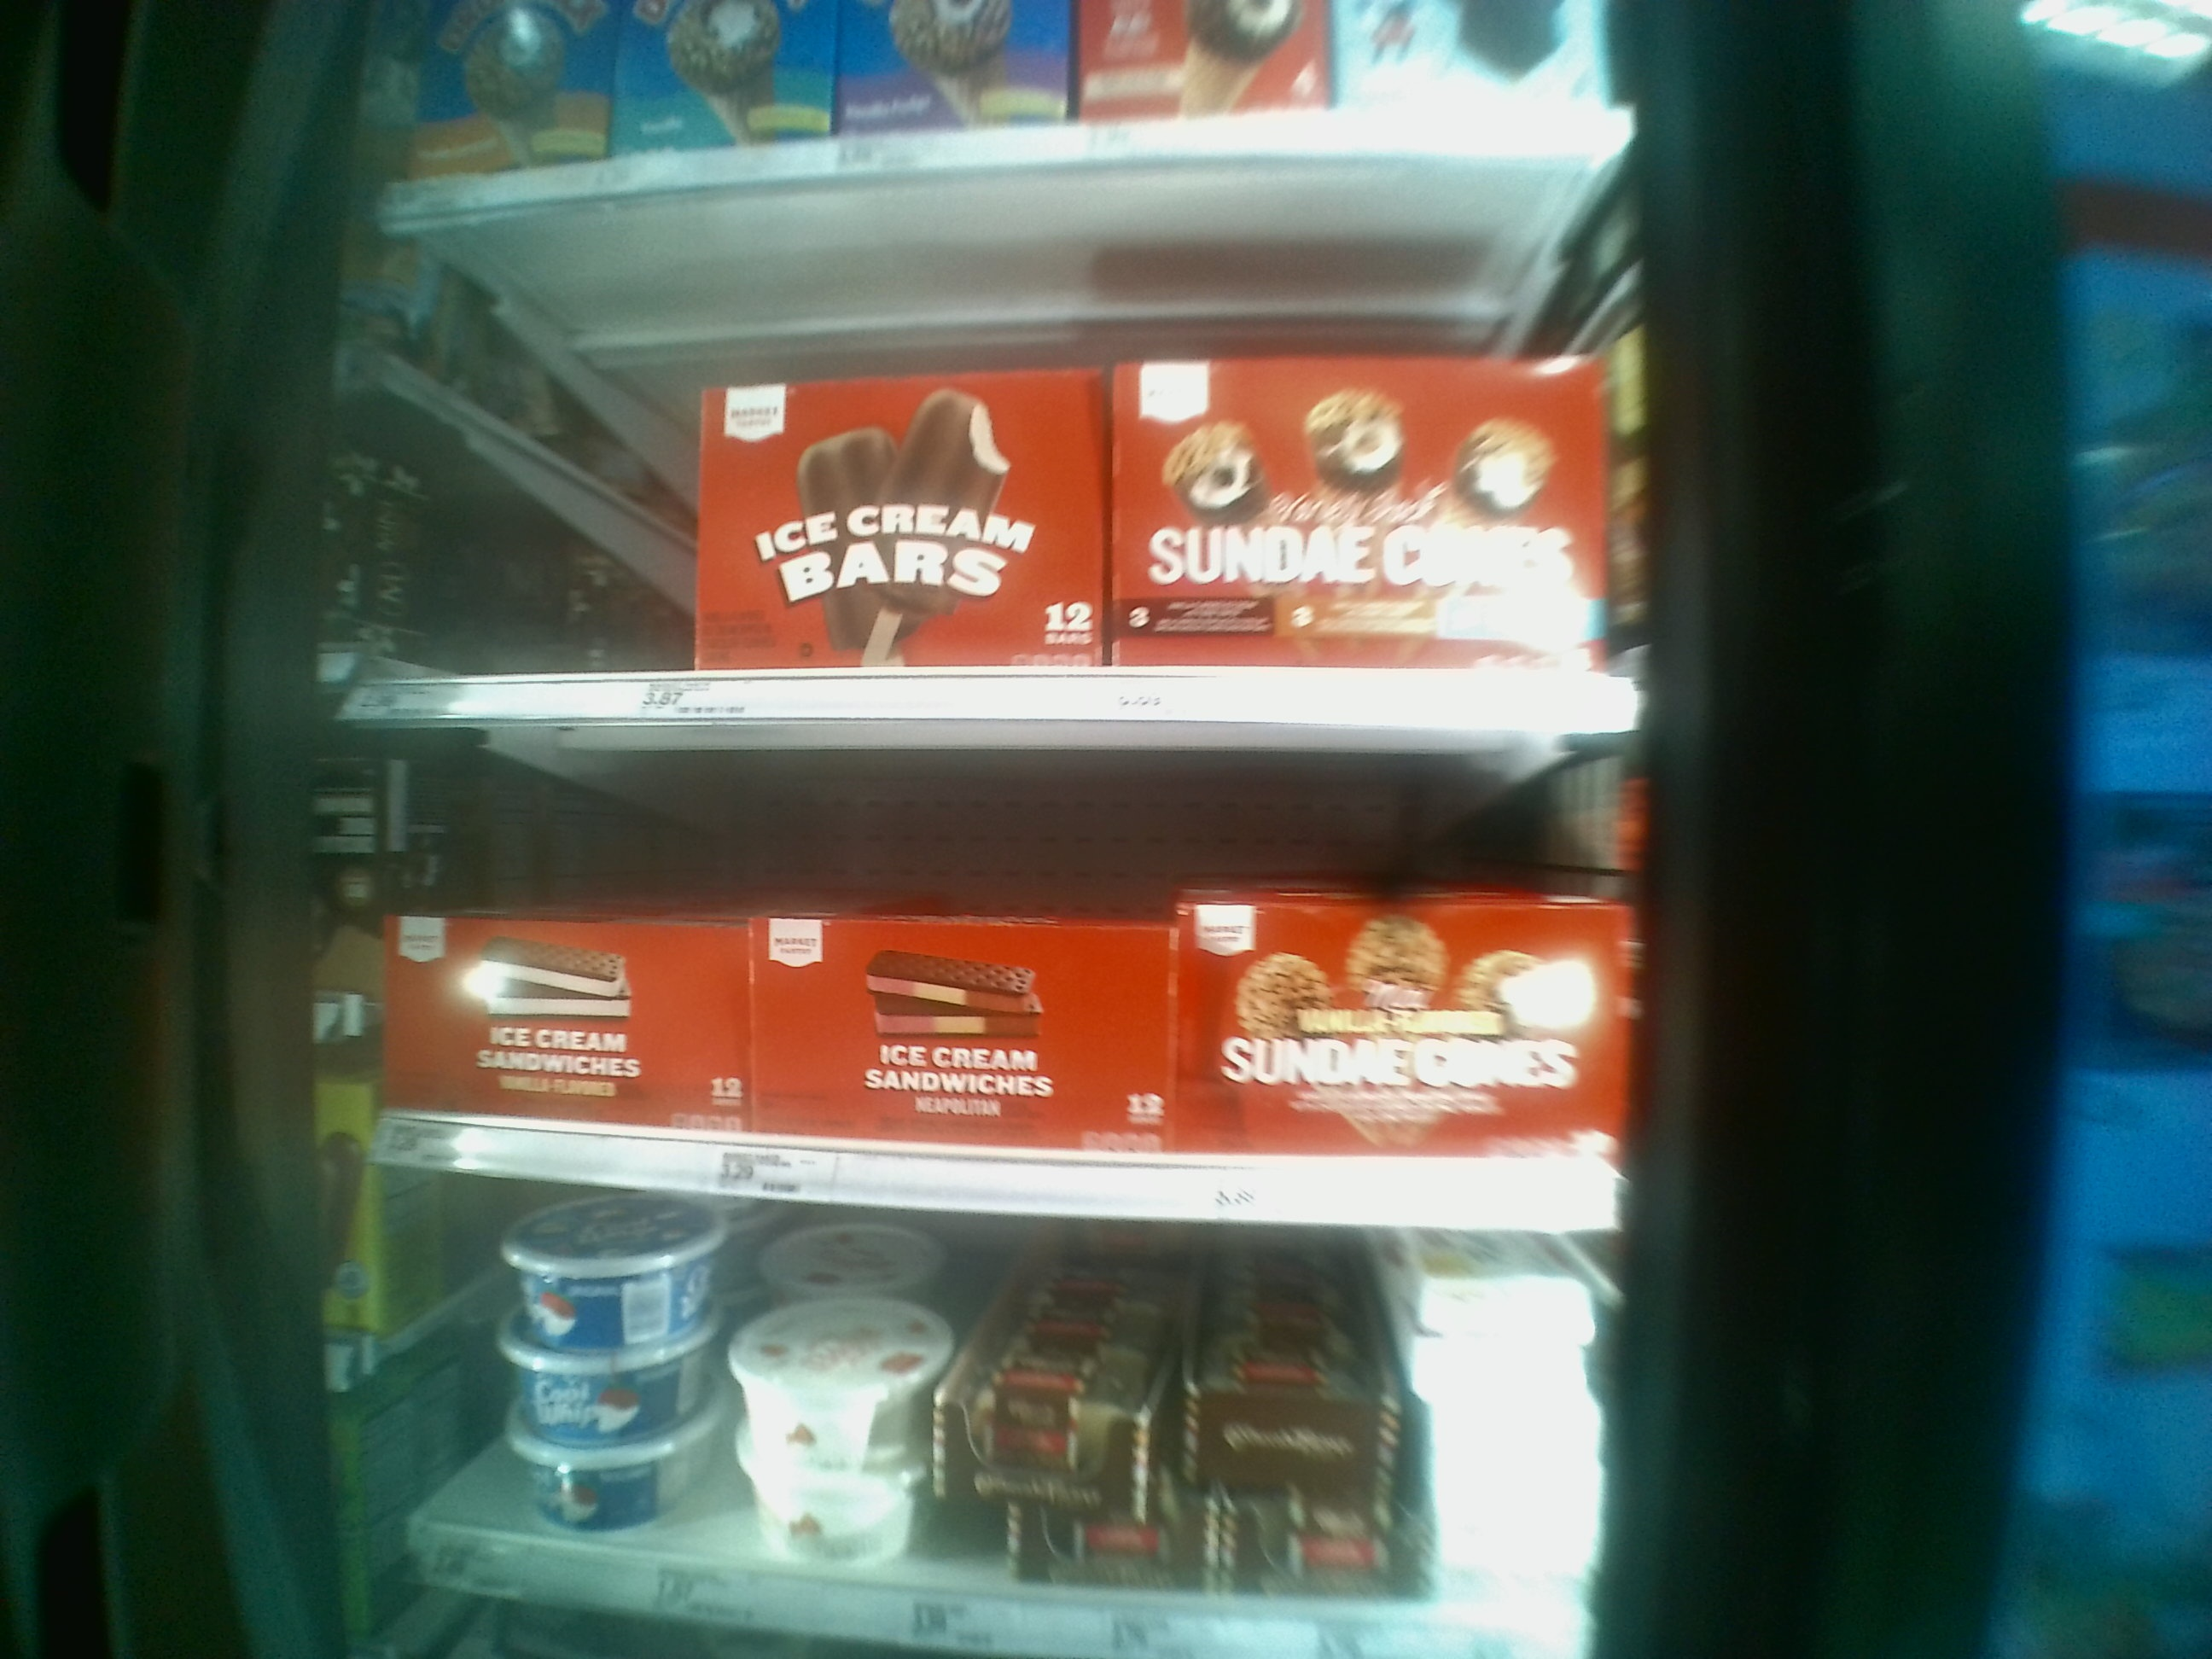frozen-food-shelf: (315, 746, 1655, 1236), (314, 260, 1651, 744)
